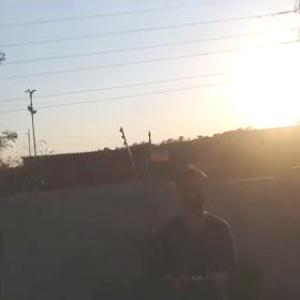follow: (152, 161, 246, 299)
